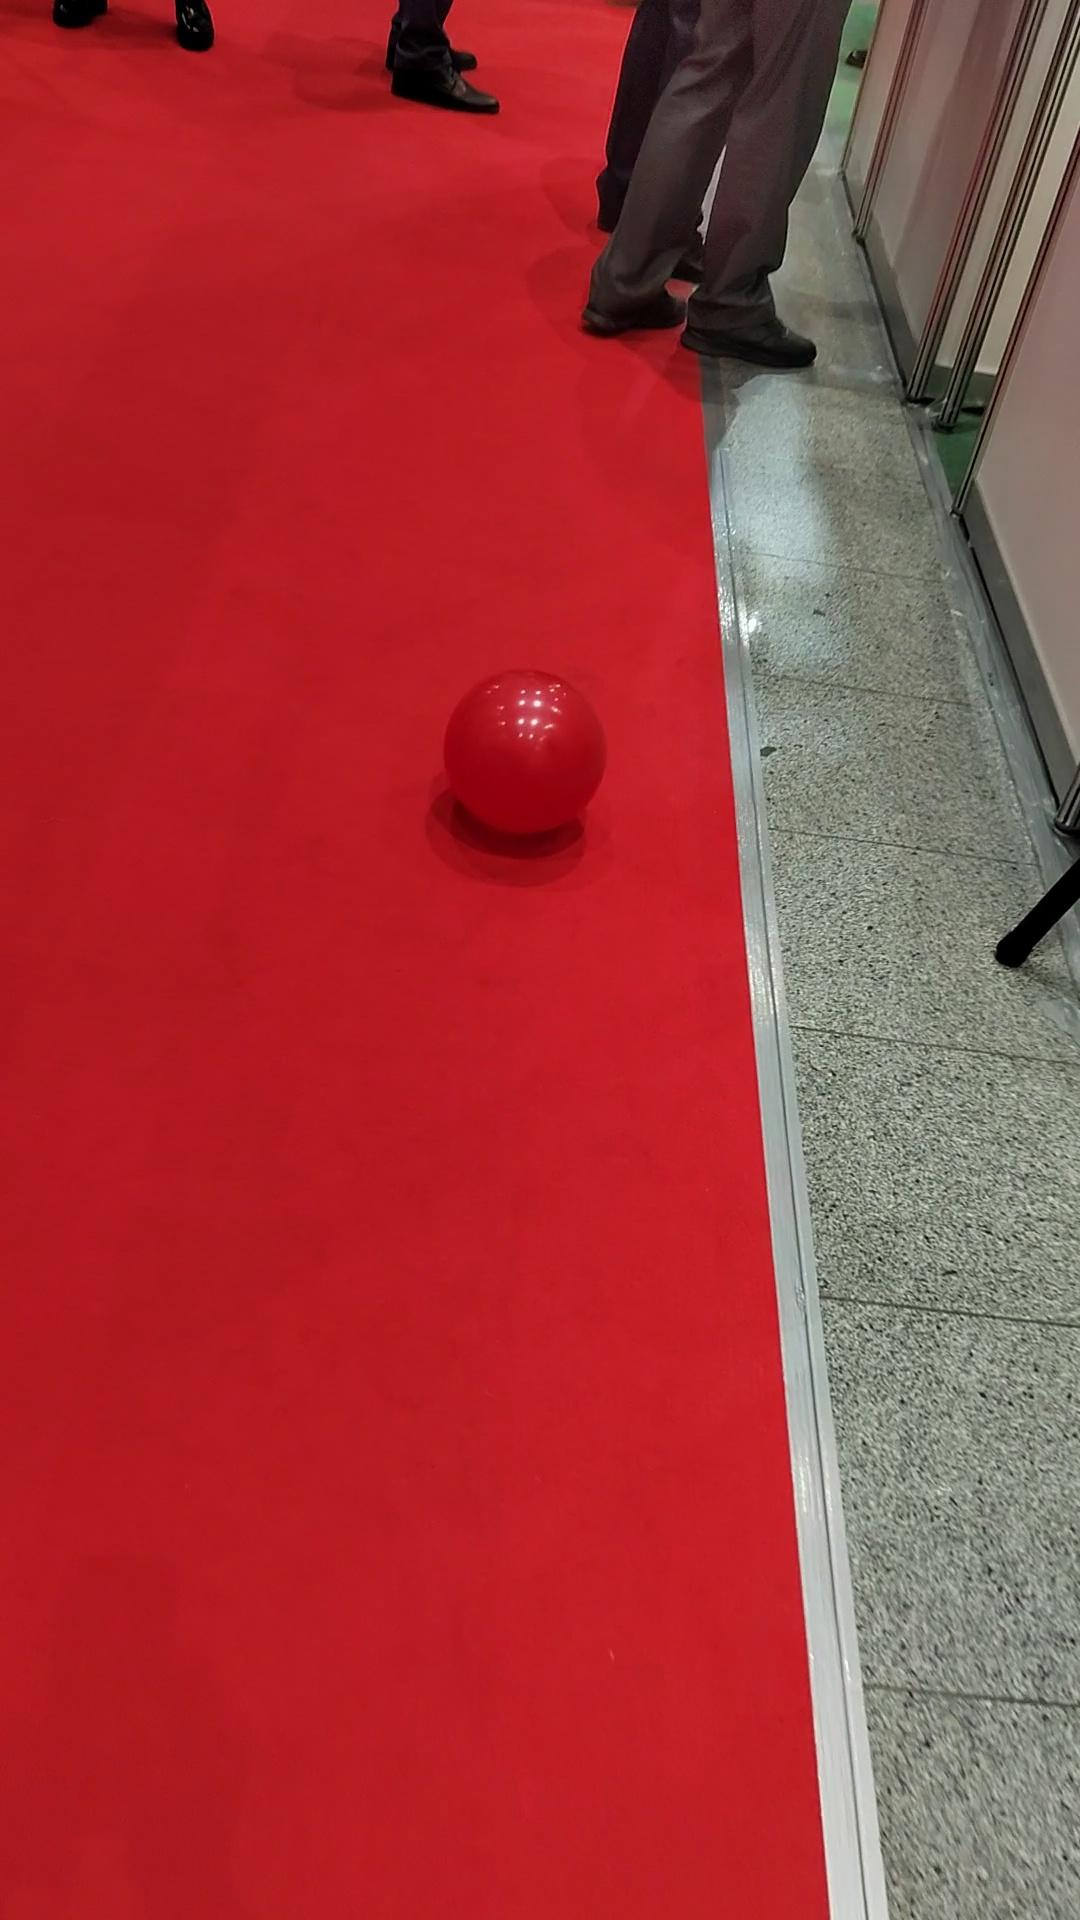red: (443, 671, 608, 837)
